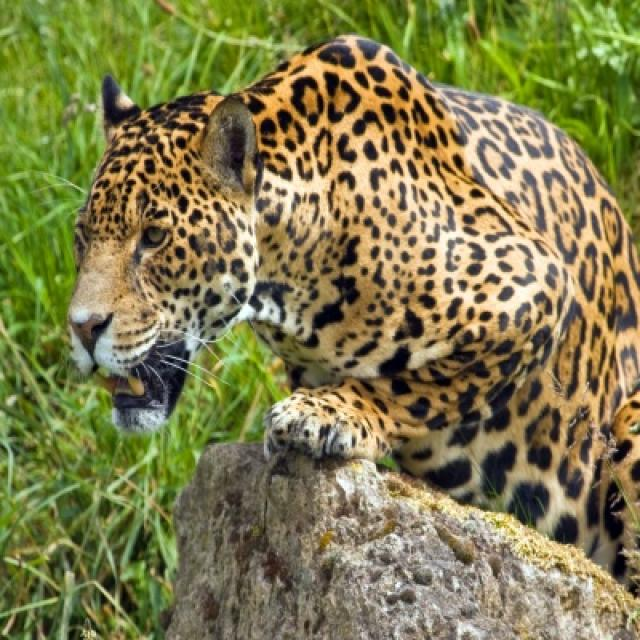Jaguar: (66, 35, 638, 598)
